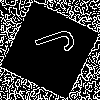J: (25, 25, 77, 64)
